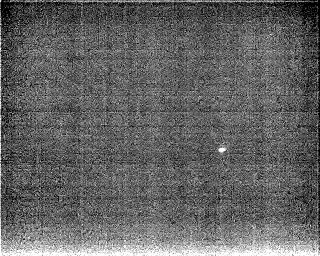AIRPLANE: (217, 145, 228, 155)
